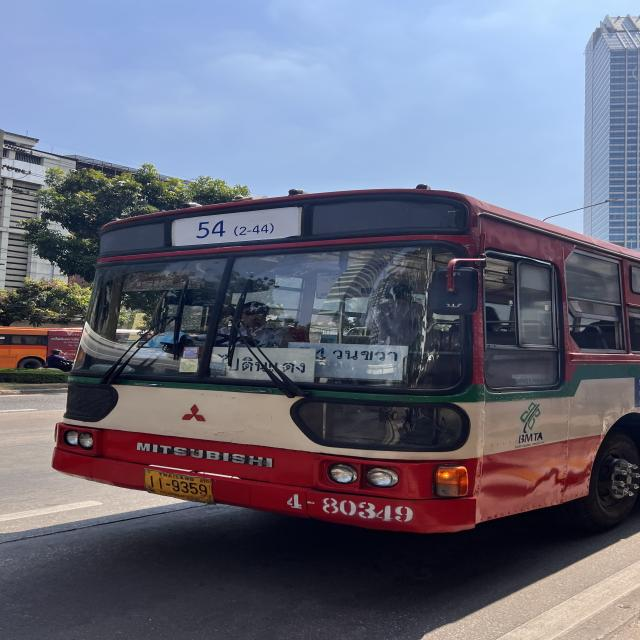BMTA-bus: (51, 187, 640, 537)
Bus Line Number: (175, 217, 280, 243)
Bus Side Number: (264, 485, 426, 527)
Destination Sign: (292, 342, 413, 380)
